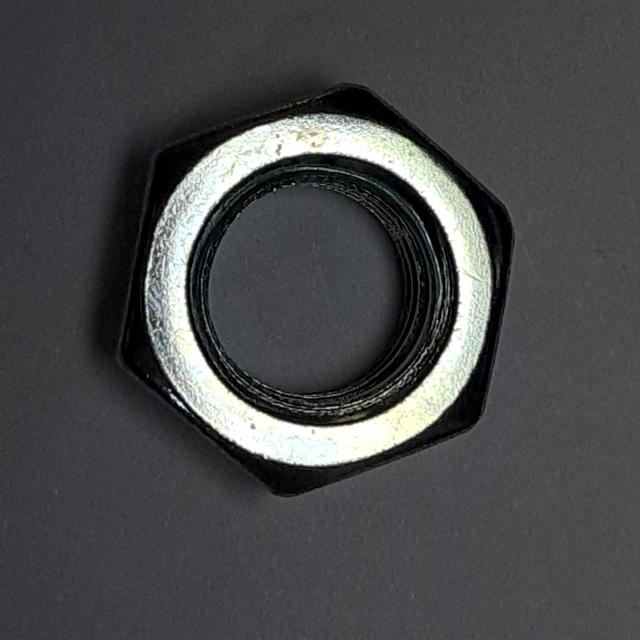Excellent: (97, 68, 538, 519)
